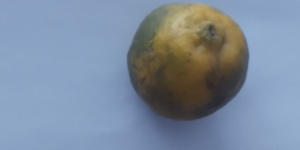BAD: (125, 2, 252, 121)
